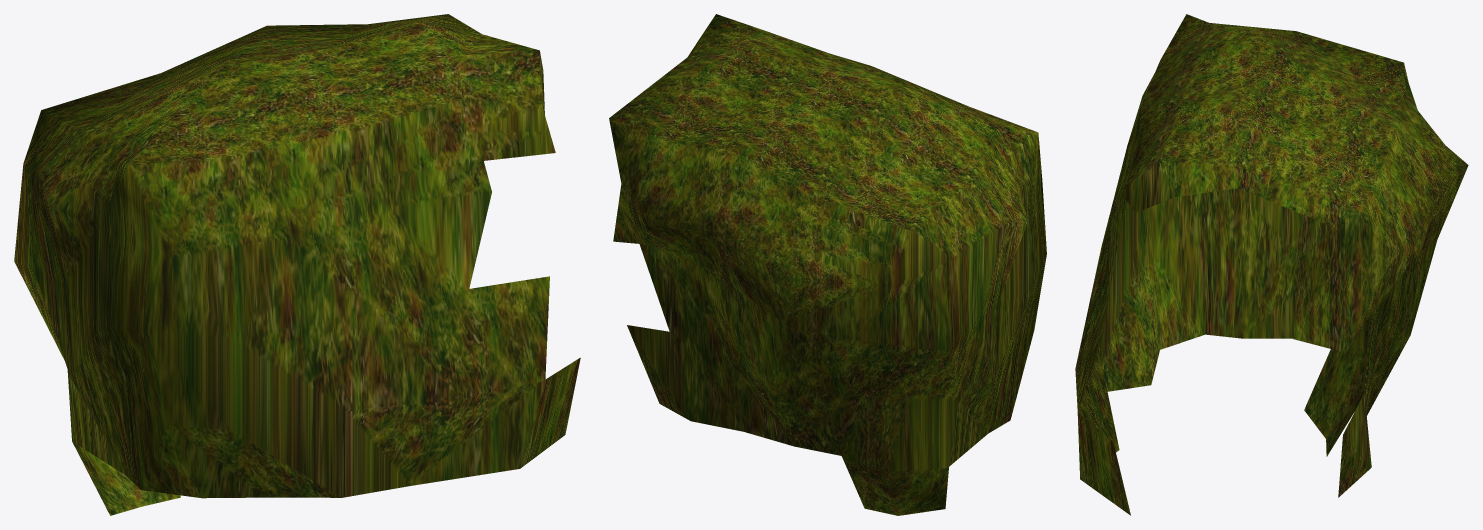
The model's file is TROLLHOLE02_BOX326.fbx.
3 views of the same model, side by side, from view 1: azimuth 30°, elevation 25°; view 2: azimuth 150°, elevation 25°; view 3: azimuth 270°, elevation 25° (orthographic). The views are drawn at different scales.
Parts seen in each view (by area): view 1: TROLLHOLE02_BOX326; view 2: TROLLHOLE02_BOX326; view 3: TROLLHOLE02_BOX326.
Part boxes in pixels (left/top/right/bottom): TROLLHOLE02_BOX326: left=14, top=14, right=580, bottom=515; TROLLHOLE02_BOX326: left=609, top=14, right=1046, bottom=515; TROLLHOLE02_BOX326: left=1075, top=14, right=1468, bottom=515.
Bounding box in the file's own units: 102977 × 97503 × 80743.
Materials: 1 (1 with a texture image).
